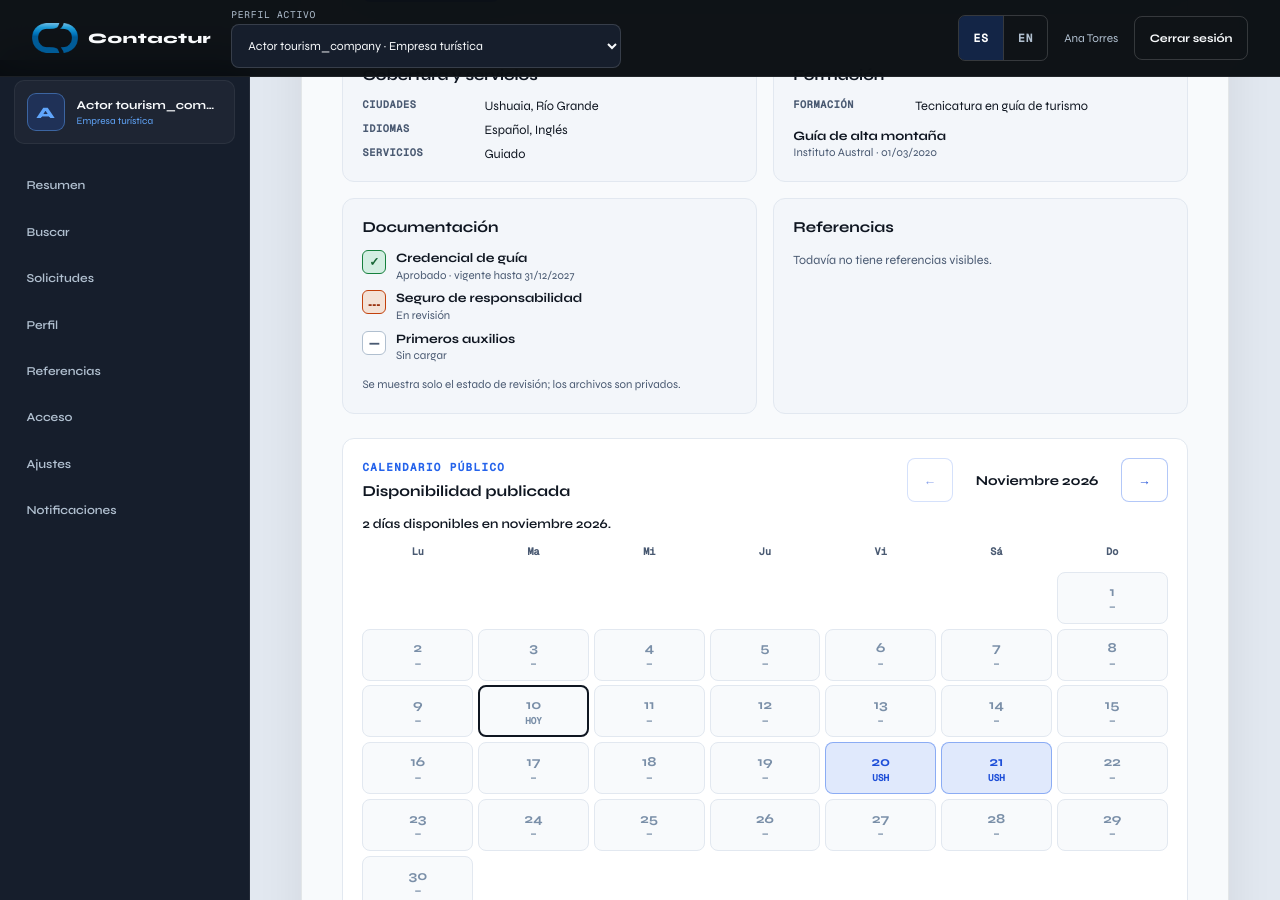
Test: T15 — ficha read-only › muestra datos sanitizados, documentos legibles, referencias vacías, calendario y formulario de solicitud para empresa
(page scrolled)
Expected: the text "Ushuaia, Río Grande" is shown, left=484, top=98, right=599, bottom=114
Expected: the text "Tecnicatura en guía de turismo" is shown, left=915, top=98, right=1088, bottom=114
Click the button named "Mes siguiente" at (1144, 480), box left=1121, top=458, right=1168, bottom=502
(page scrolled)
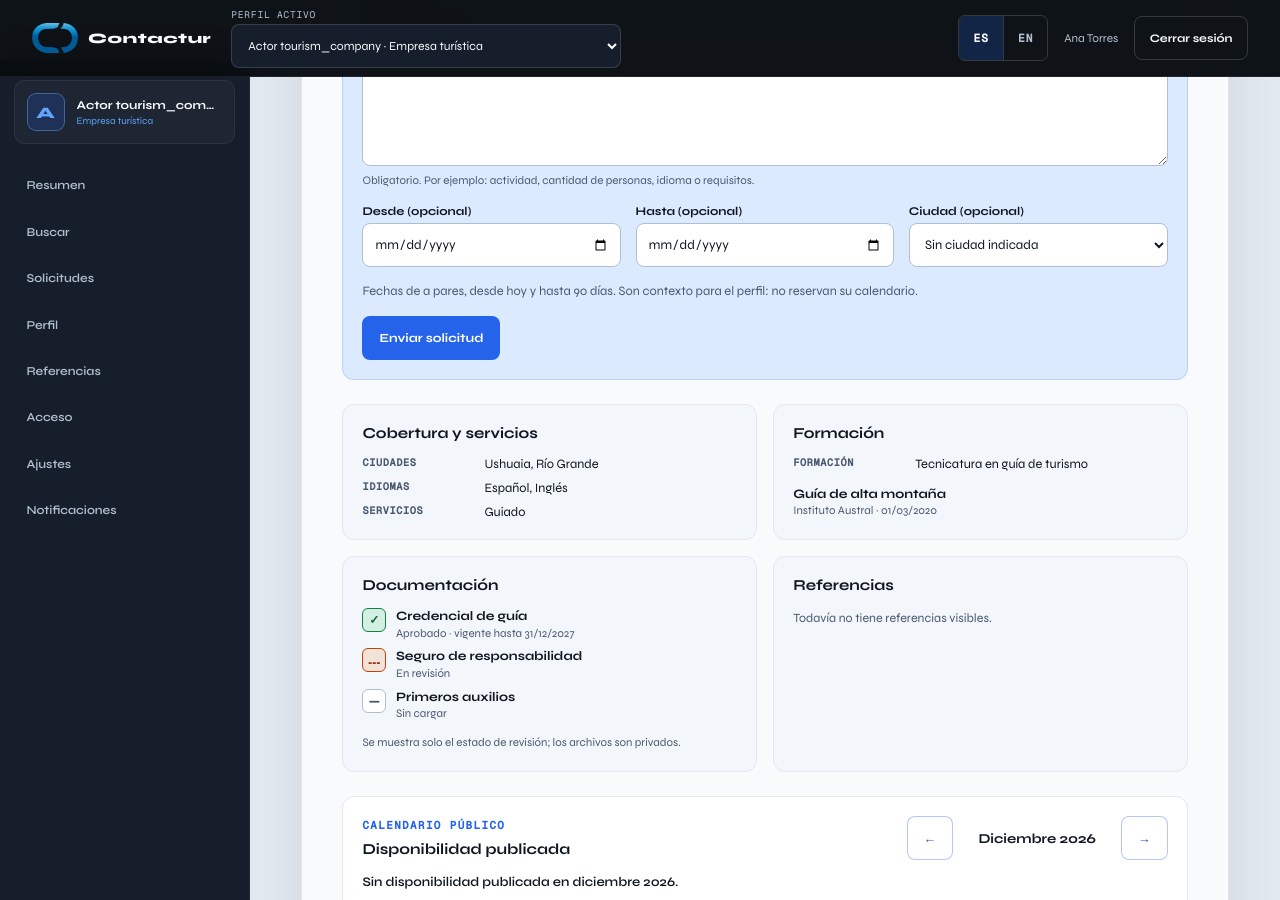
Expected: the text box labelled "Servicio solicitado" is shown, left=362, top=46, right=1168, bottom=166
Expected: the text "Sin disponibilidad publicada en diciembre 2026." is shown, left=362, top=874, right=678, bottom=890
